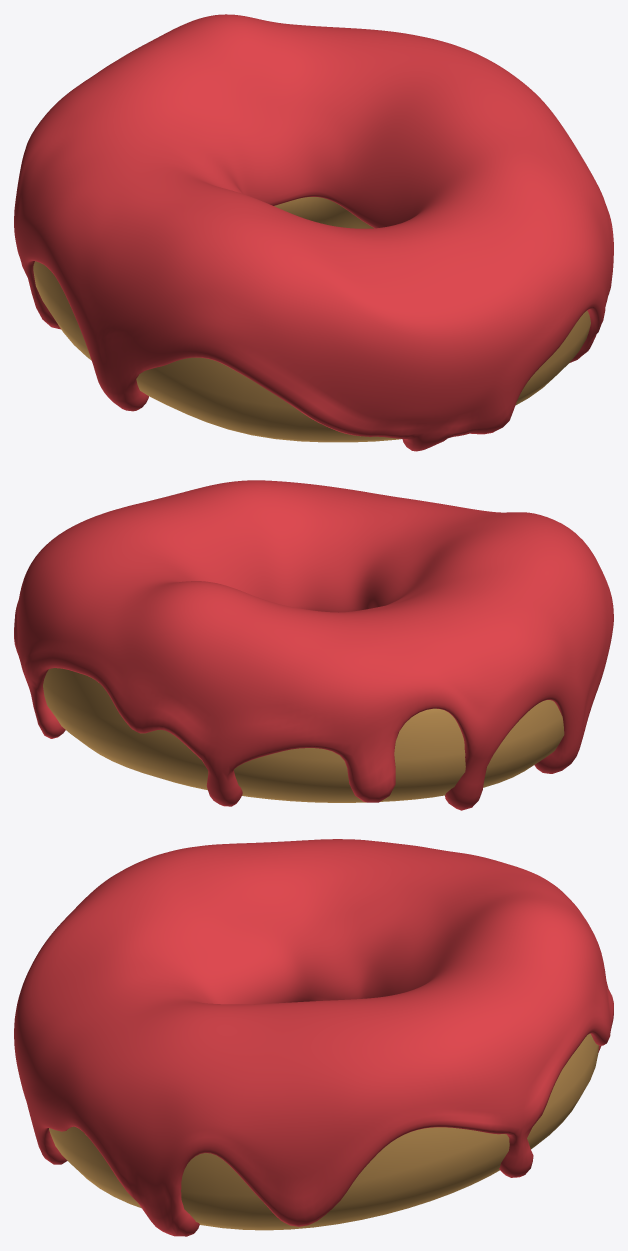
File: Asset_redDonut.fbx
The picture shows the model from 3 angles, top to bottom: view 1: azimuth 30°, elevation 25°; view 2: azimuth 150°, elevation 25°; view 3: azimuth 270°, elevation 25°; orthographic projection. The views are drawn at different scales.
Visible parts, largest first — view 1: Donut2.002; view 2: Donut2.002; view 3: Donut2.002.
Part boxes in pixels (<box>): Donut2.002: <box>14,14,613,451</box>; Donut2.002: <box>14,480,613,810</box>; Donut2.002: <box>14,839,613,1236</box>.
Size of the model in its own units: 7.74 by 3.63 by 7.89.
